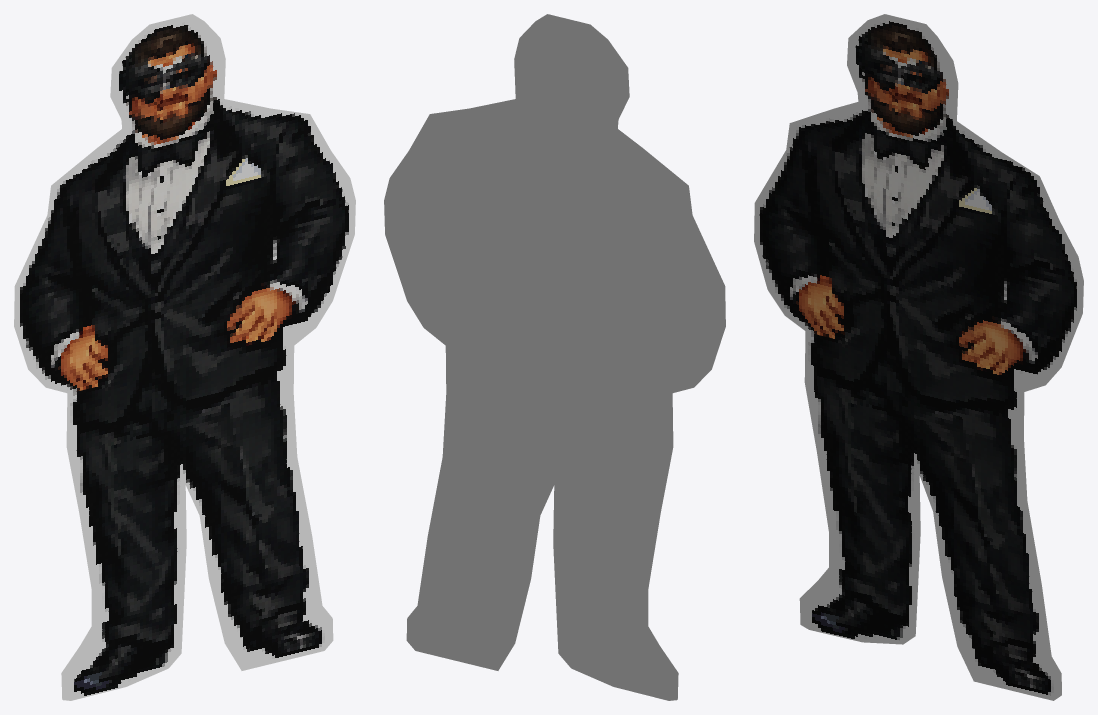
Rendered from Tuxedo.glb.
The picture shows the model from 3 angles, left to right: view 1: azimuth 30°, elevation 25°; view 2: azimuth 150°, elevation 25°; view 3: azimuth 330°, elevation 25°; orthographic projection. The views are drawn at different scales.
Visible parts, largest first — view 1: Body_shape.001; view 2: Body_shape; view 3: Body_shape.001.
Part boxes in pixels (x1=…): Body_shape.001: x1=14, y1=14, x2=355, y2=700; Body_shape: x1=384, y1=14, x2=725, y2=700; Body_shape.001: x1=754, y1=14, x2=1083, y2=700.
Bounding box in the file's own units: 0.776 × 1.45 × 1.95e-07.
Materials: 1 (1 with a texture image).
